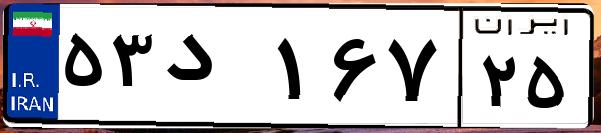1: (270, 28, 330, 110)
2: (475, 38, 525, 113)
3: (110, 28, 158, 98)
5: (57, 26, 110, 100), (525, 38, 570, 115)
6: (330, 28, 385, 110)
7: (385, 28, 445, 110)
د: (158, 20, 270, 120)
